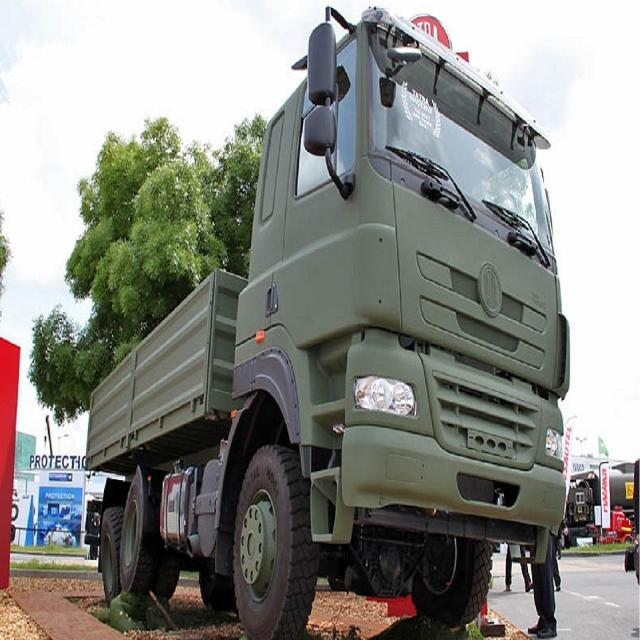truck: (86, 9, 570, 638)
